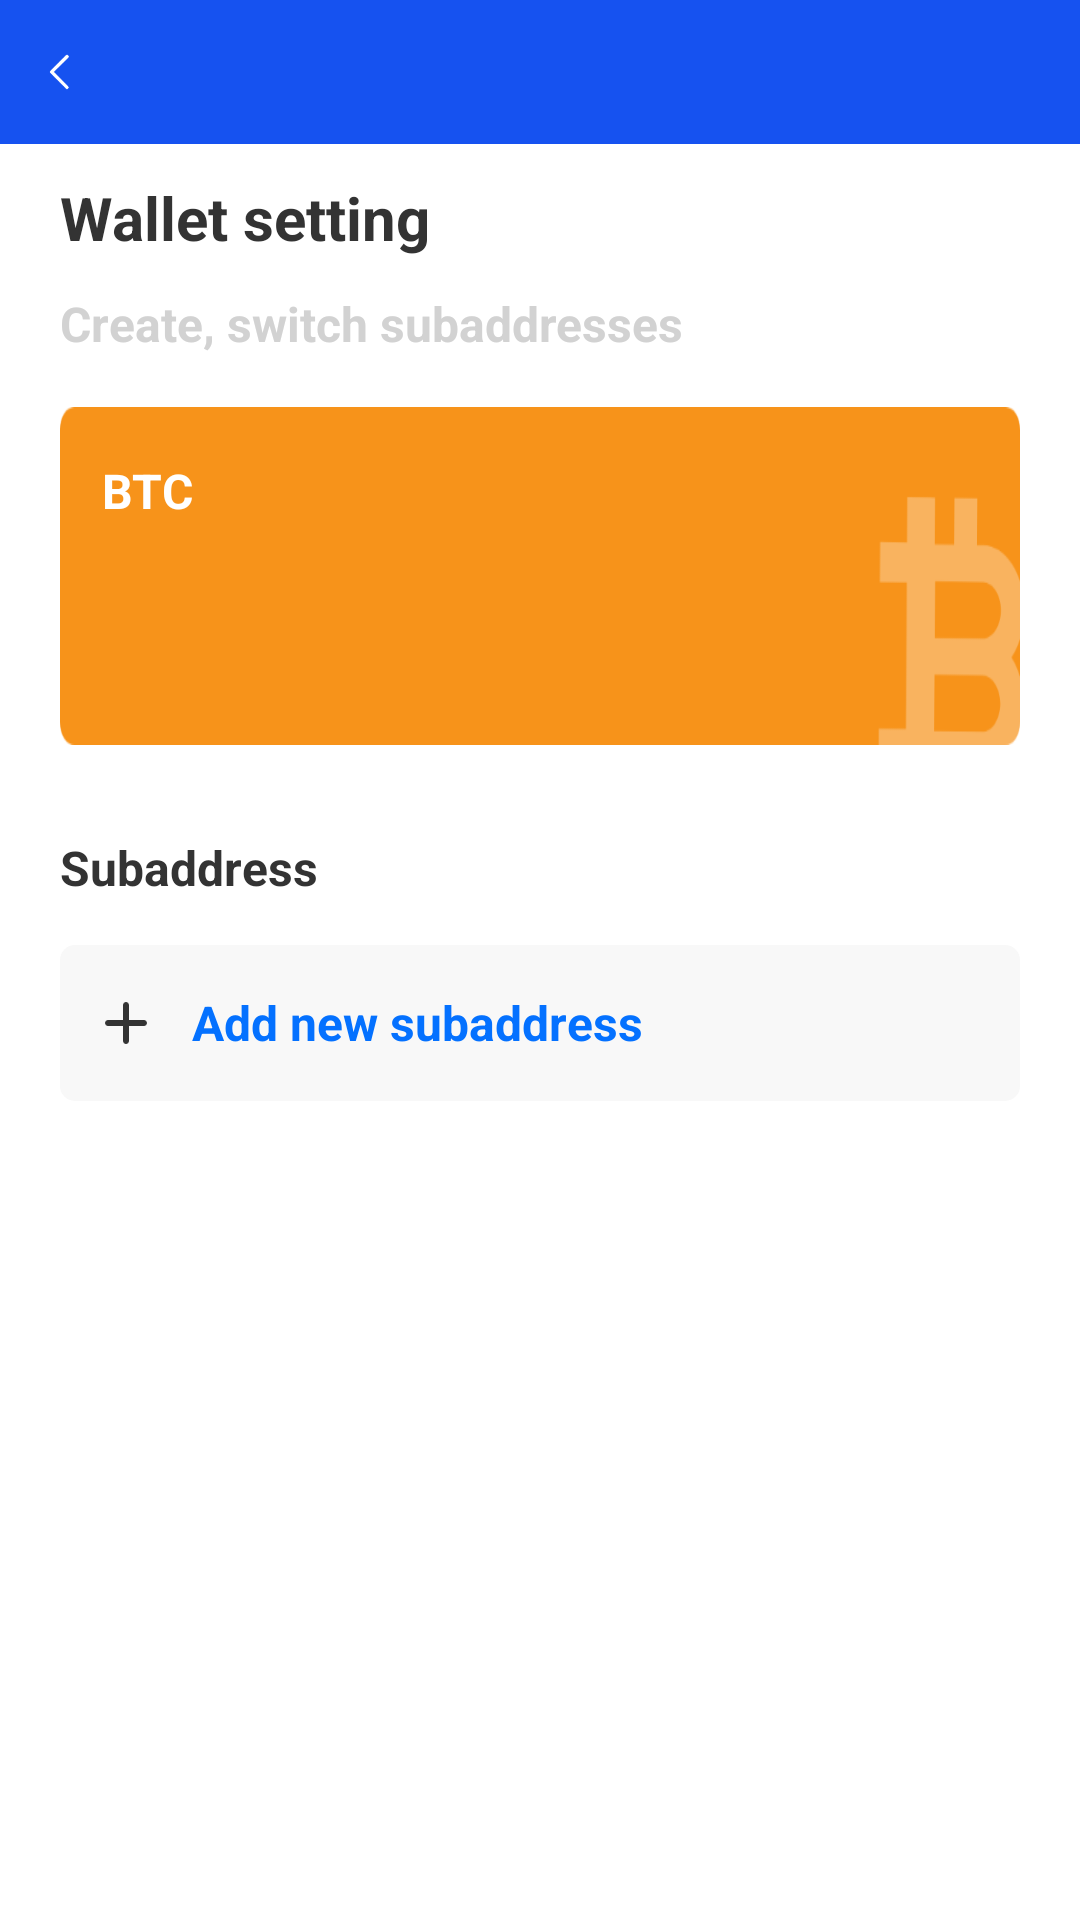

Where to tap for icons on this 1080×1920 app screen, as (x,y):
back: (59,71)
